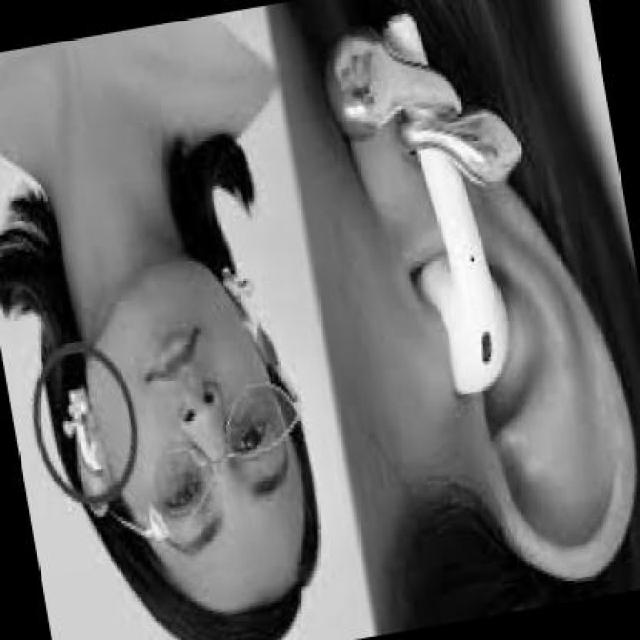earphone: (352, 29, 527, 383), (200, 245, 267, 340), (62, 386, 115, 486)
